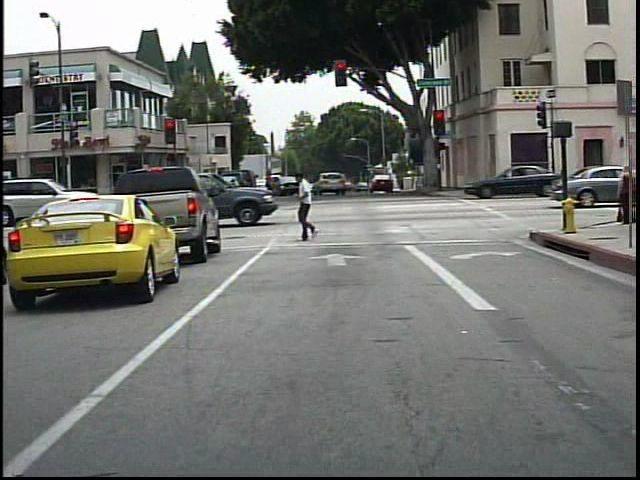person: (290, 171, 329, 243), (613, 163, 636, 228), (265, 167, 276, 207)
